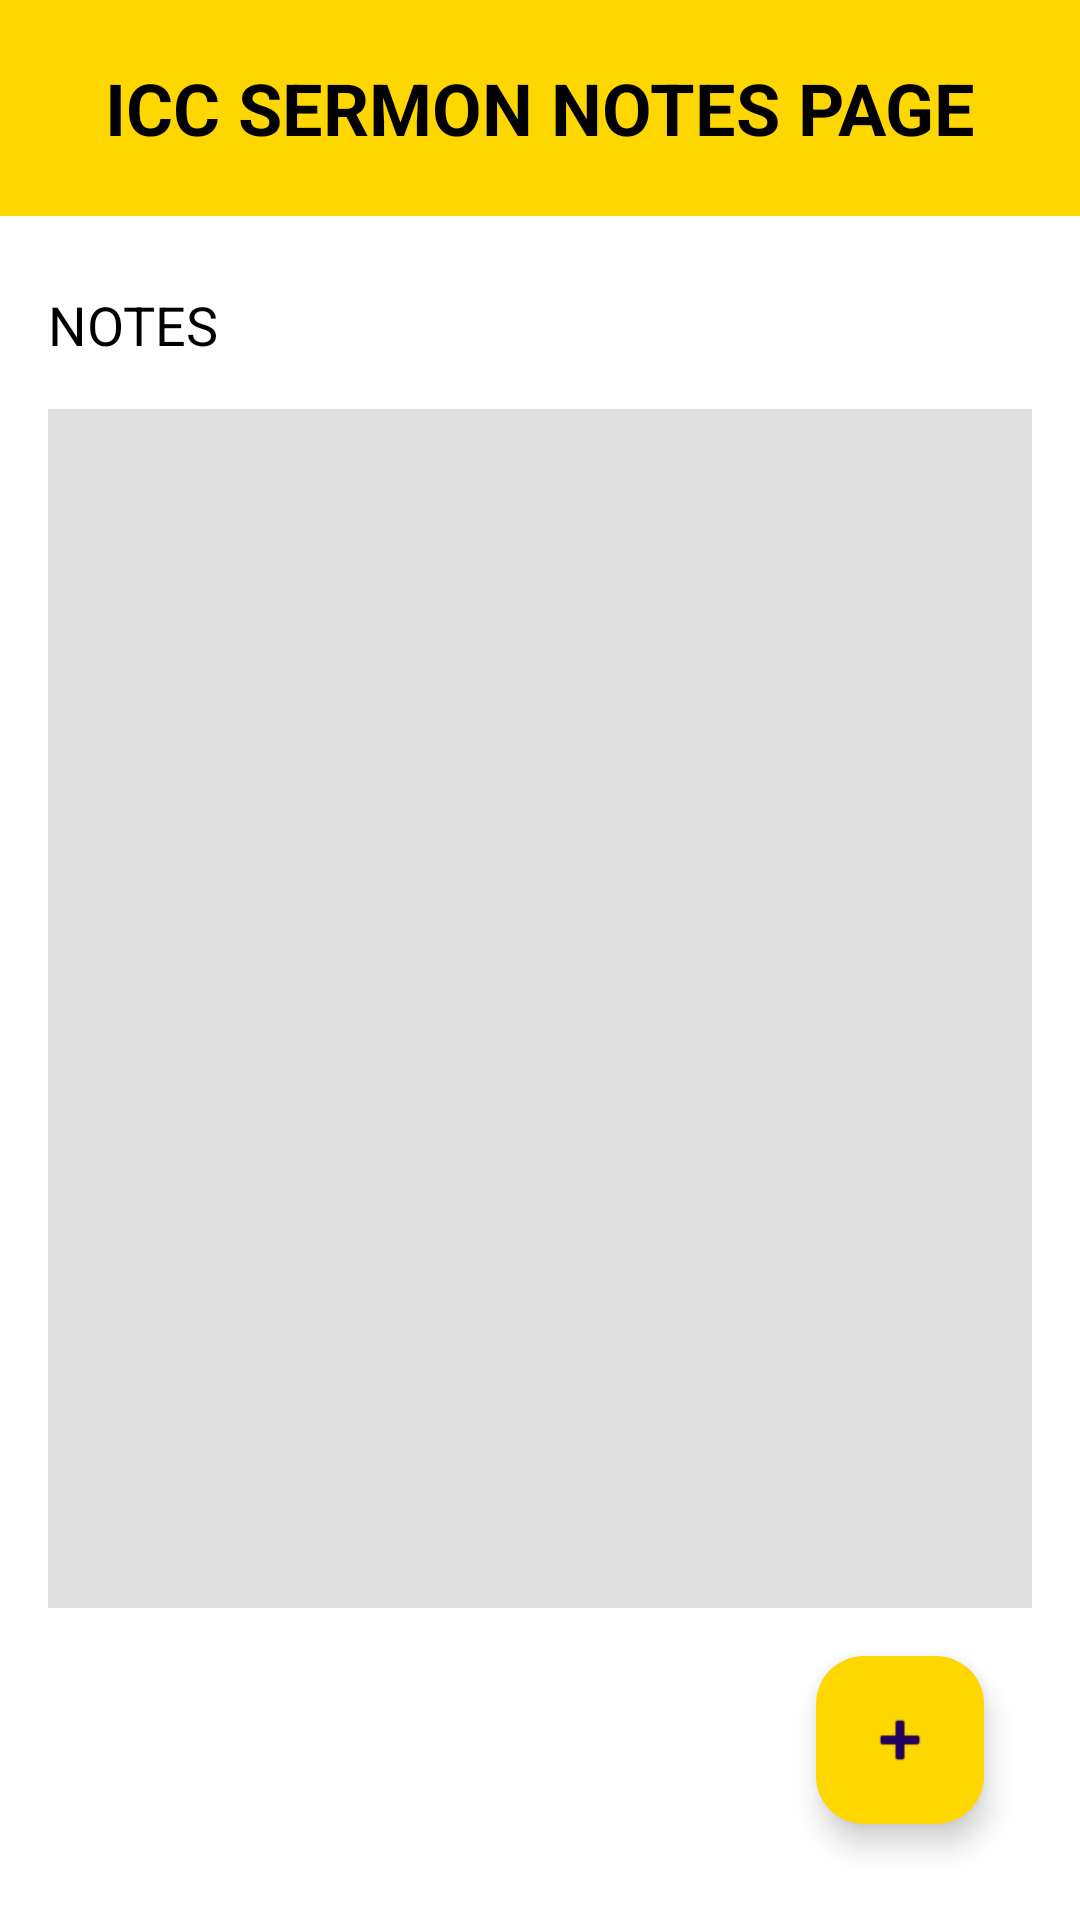

Screen size 1080 x 1920. Icon name, then its center in pixels as (x,y):
Add Note: (900,1740)
